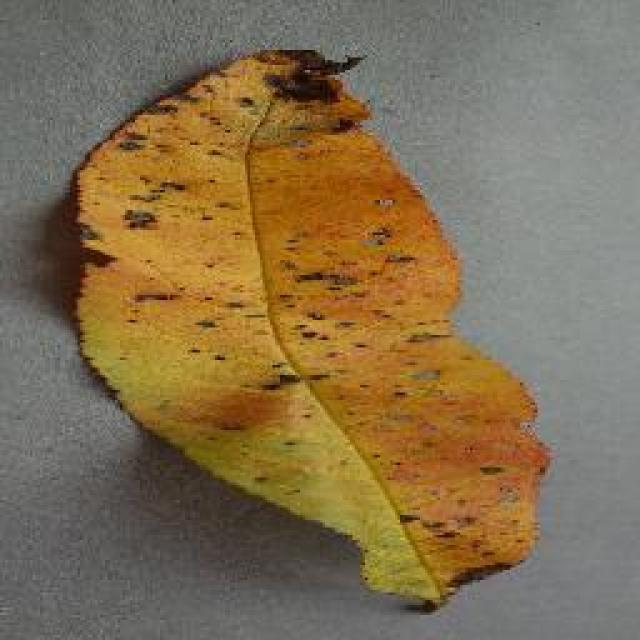Peach_Bacterial_Spot: (156, 37, 512, 585)
